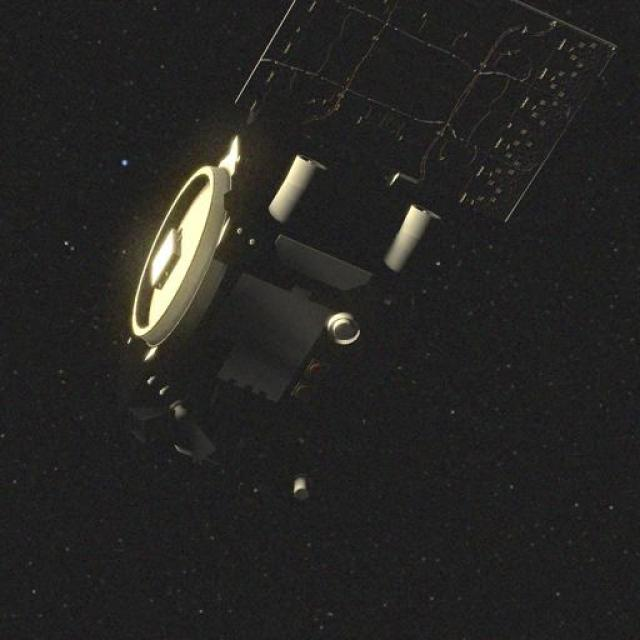proba_3_csc: (83, 0, 640, 492)
